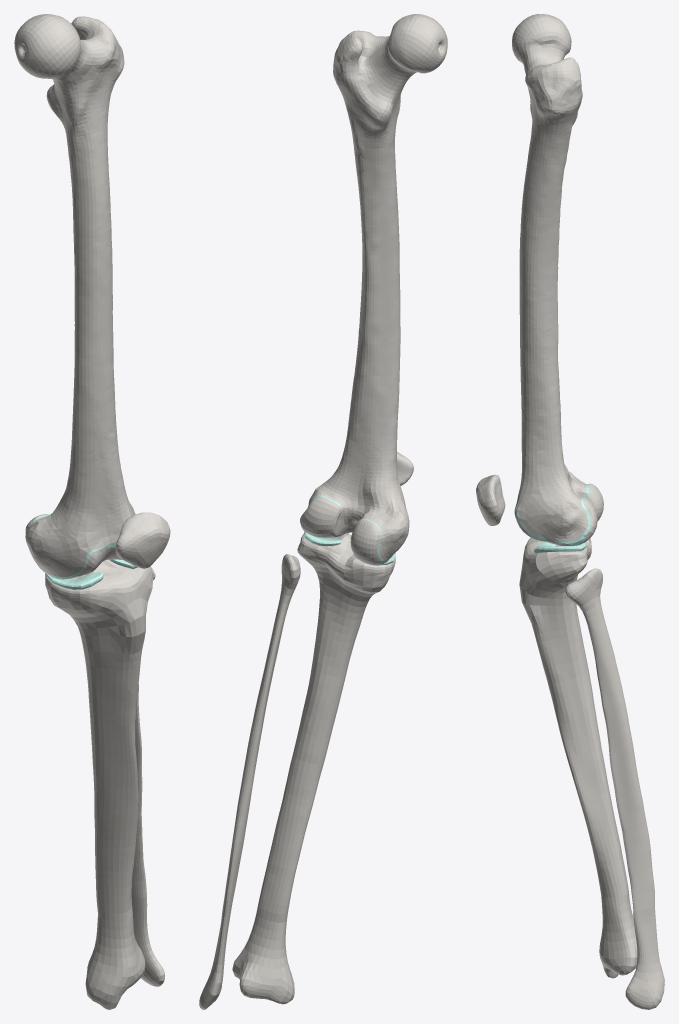
Rendered from organ-knee.glb.
3 views of the same model, side by side, from view 1: azimuth 30°, elevation 25°; view 2: azimuth 150°, elevation 25°; view 3: azimuth 270°, elevation 25° (orthographic). The views are drawn at different scales.
Visible parts, largest first — view 1: femur, tibia, fibula, patella, meniscus, medial-condyle-of-left-femur; view 2: femur, tibia, fibula, lateral-condyle-of-femur-inf, medial-condyle-of-left-femur; view 3: femur, tibia, fibula, patella, articular-cartilage-of-knee.
Boxes of the visible parts, box(x1,y1,x2,y2) form: femur: box(14, 14, 135, 577); tibia: box(45, 559, 153, 1009); fibula: box(131, 568, 164, 986); patella: box(115, 512, 170, 568); meniscus: box(47, 559, 137, 589); medial-condyle-of-left-femur: box(25, 514, 110, 576); femur: box(308, 14, 447, 560); tibia: box(232, 533, 395, 1004); fibula: box(199, 554, 300, 1009); lateral-condyle-of-femur-inf: box(300, 496, 340, 536); medial-condyle-of-left-femur: box(350, 520, 380, 564); femur: box(512, 14, 588, 541); tibia: box(519, 537, 637, 978); fibula: box(565, 568, 664, 1009); patella: box(476, 474, 505, 525); articular-cartilage-of-knee: box(515, 483, 590, 545).
Bounding box in the file's own units: 0.1734 × 0.8875 × 0.1646.
